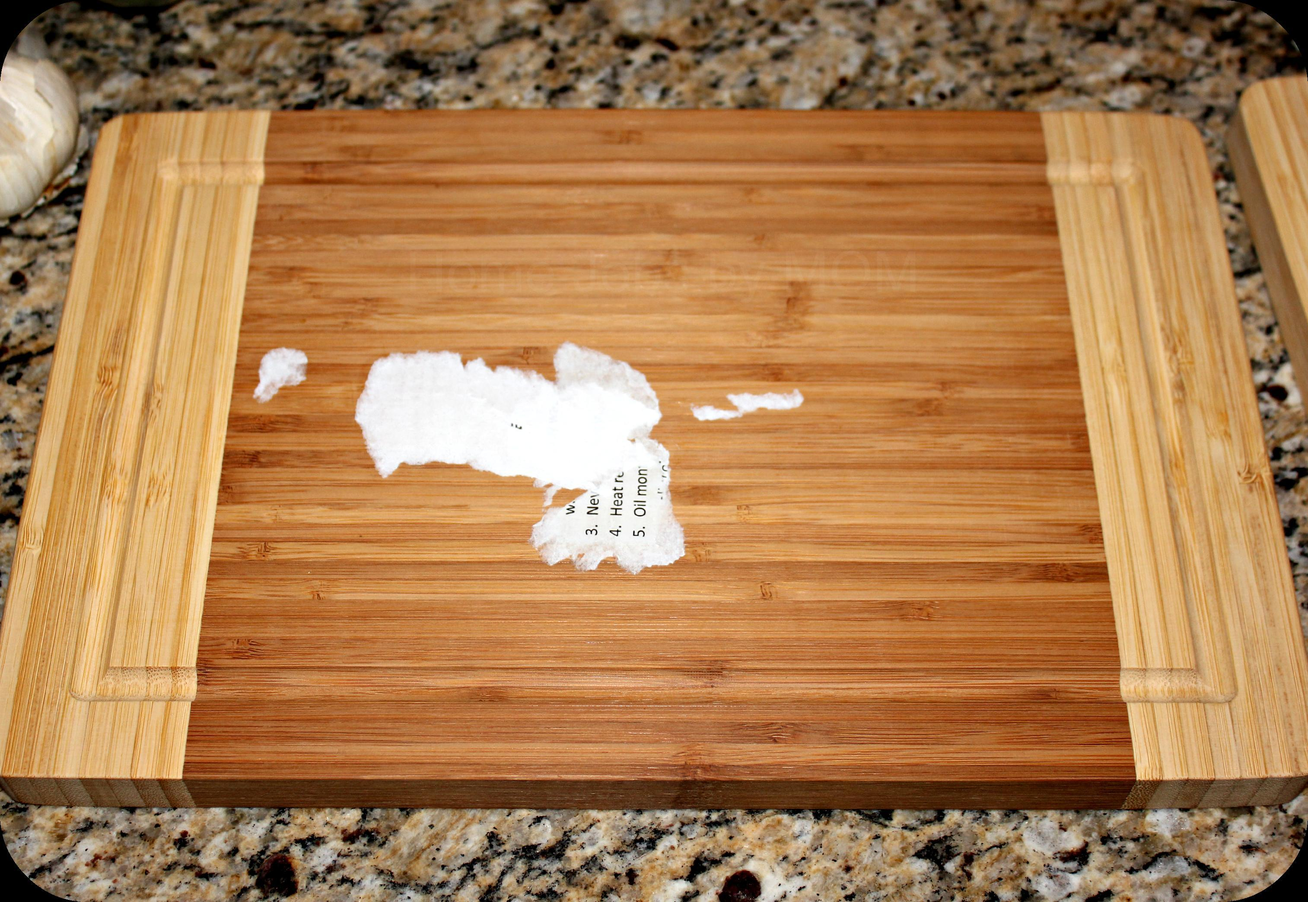gloved_hand: (11, 98, 1308, 833)
